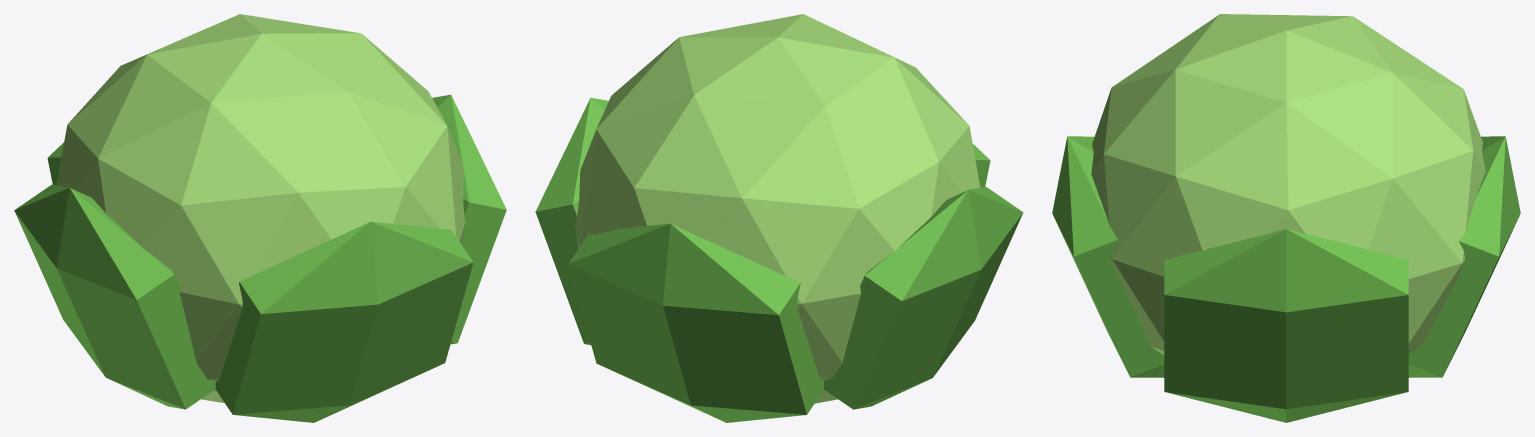
File: good_cabbage.glb
3 views of the same model, side by side, from view 1: azimuth 30°, elevation 25°; view 2: azimuth 150°, elevation 25°; view 3: azimuth 270°, elevation 25° (orthographic).
Visible parts, largest first — view 1: cabbage; view 2: cabbage; view 3: cabbage.
Boxes of the visible parts, x1=… form: cabbage: x1=14, y1=14, x2=506, y2=422; cabbage: x1=535, y1=14, x2=1023, y2=422; cabbage: x1=1052, y1=14, x2=1520, y2=422.
Size of the model in its own units: 0.259 by 0.2189 by 0.259.
